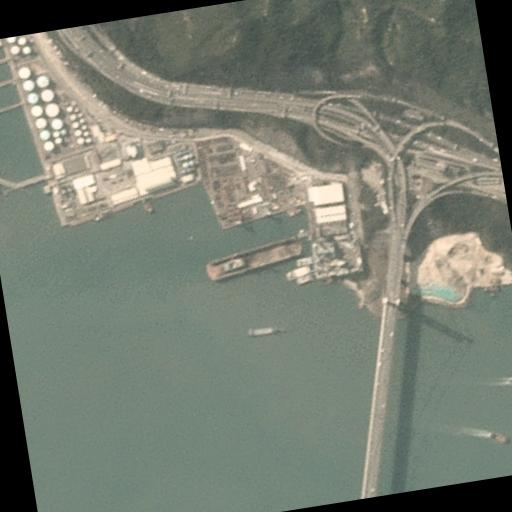ship: (204, 232, 308, 280), (246, 322, 278, 337), (487, 428, 512, 445)
